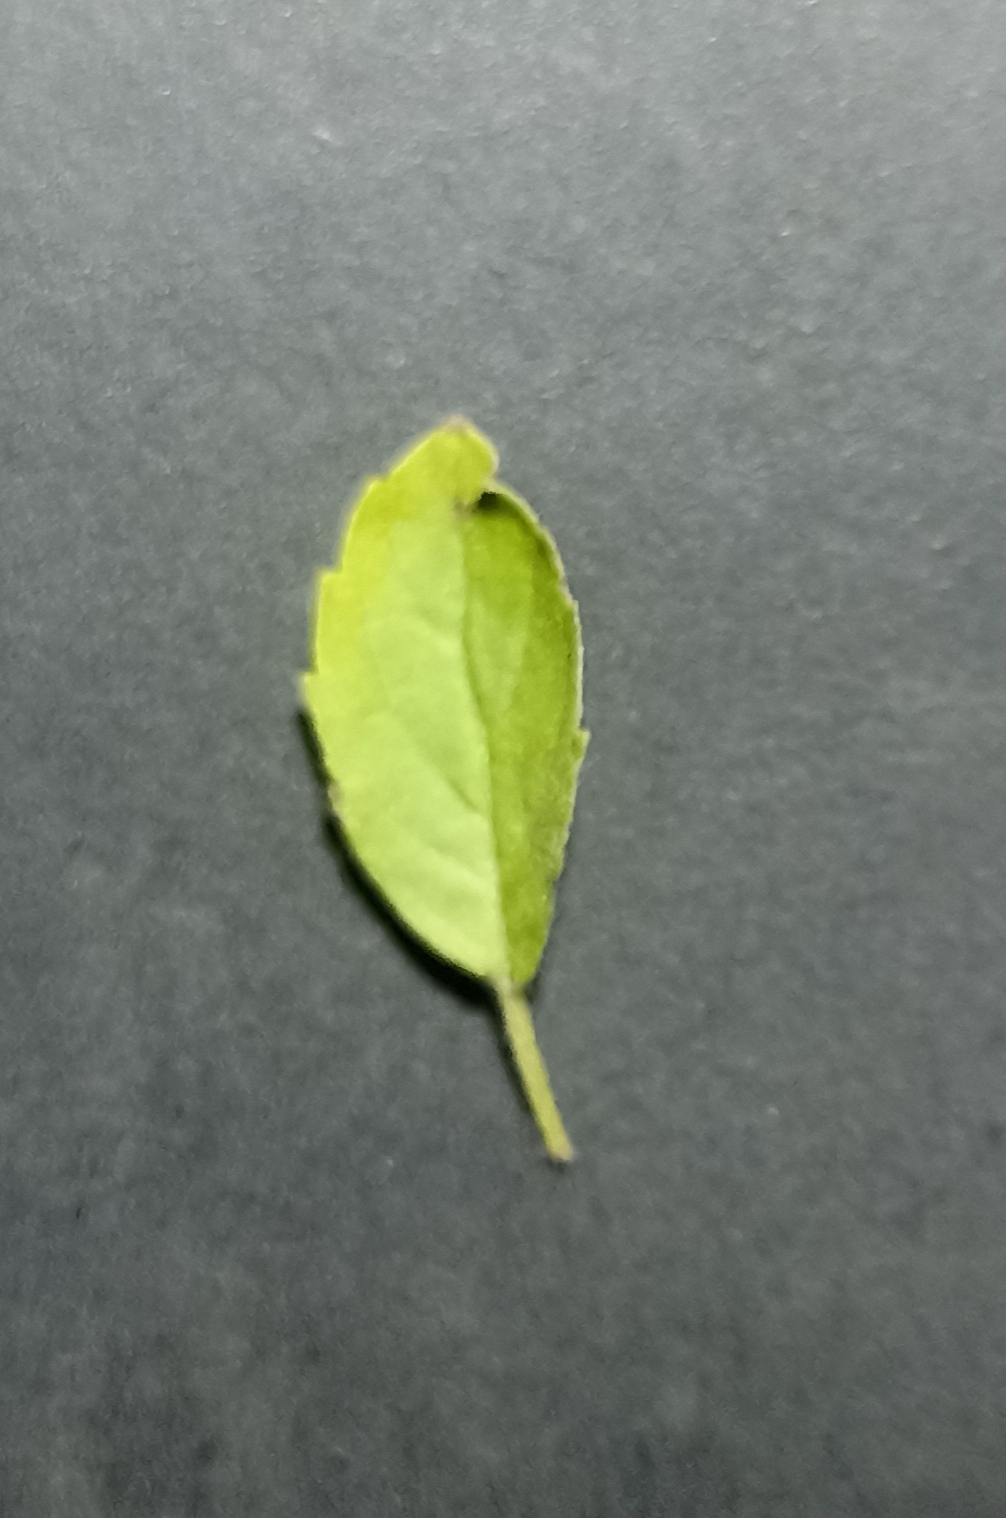Healthy: (286, 396, 607, 980)
